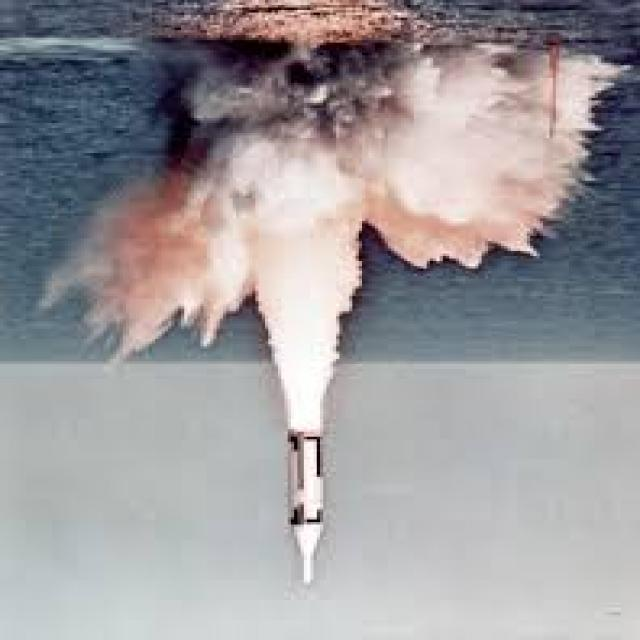Missile: (285, 430, 333, 586), (284, 434, 327, 568)
